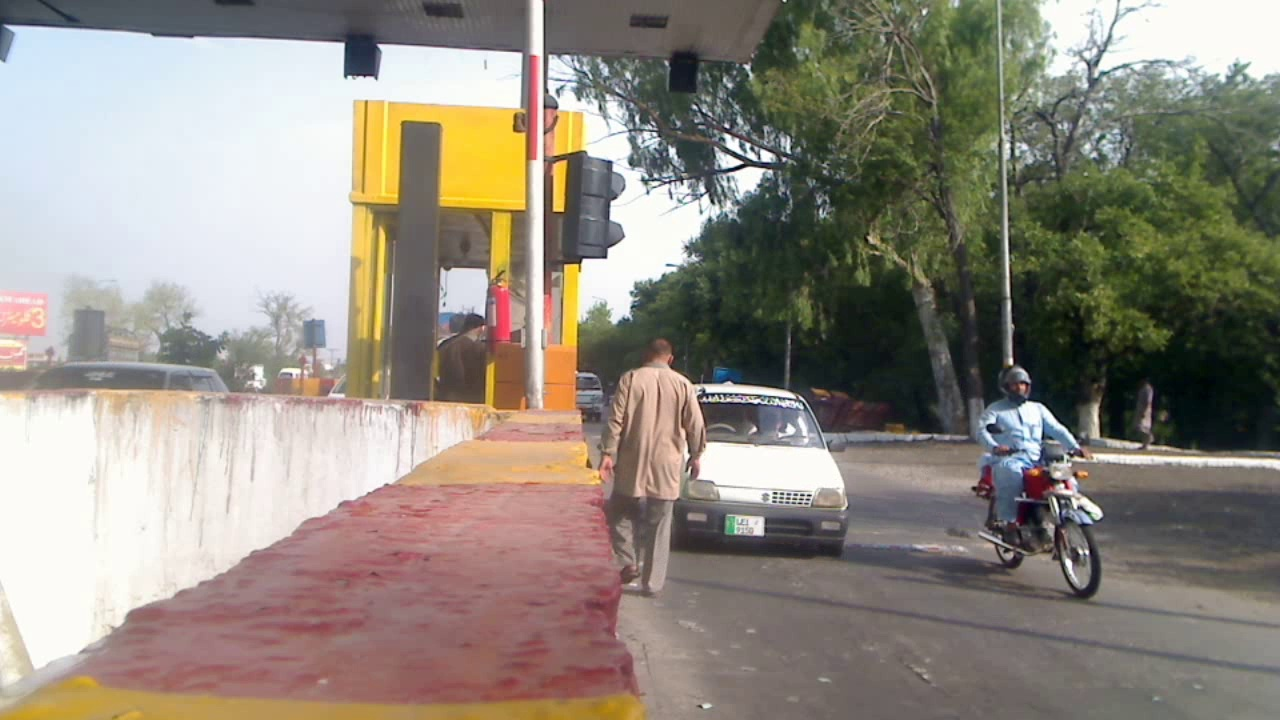Number Plate (Car): (727, 516, 764, 533)
